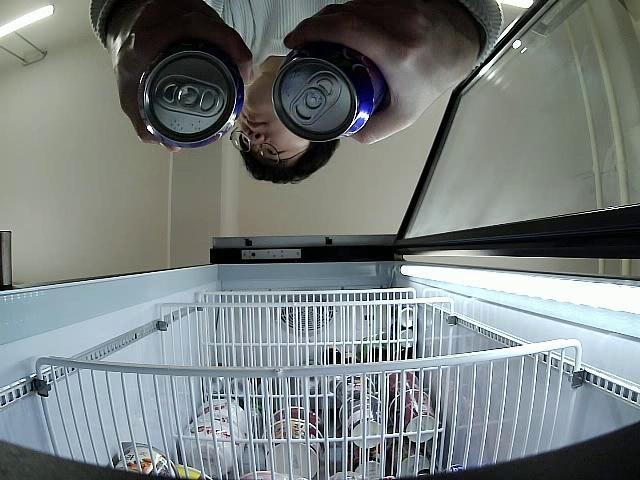14_welchsGrape: (271, 41, 386, 144), (138, 41, 245, 148)
